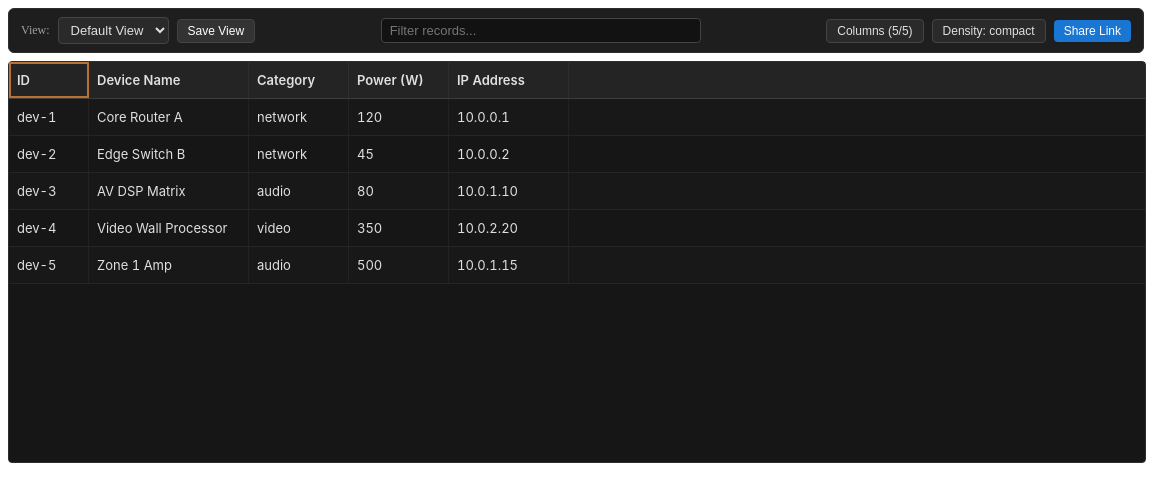
Test: GridViewManager & Views Engine (GR.W2 / B147) › GridViewManager Component Integration › filters data via search bar and column filter builders
Type "Router" into the field with test id "grid-view-search" at {"x": 541, "y": 30}, box x1=381 y1=18 x2=701 y2=43
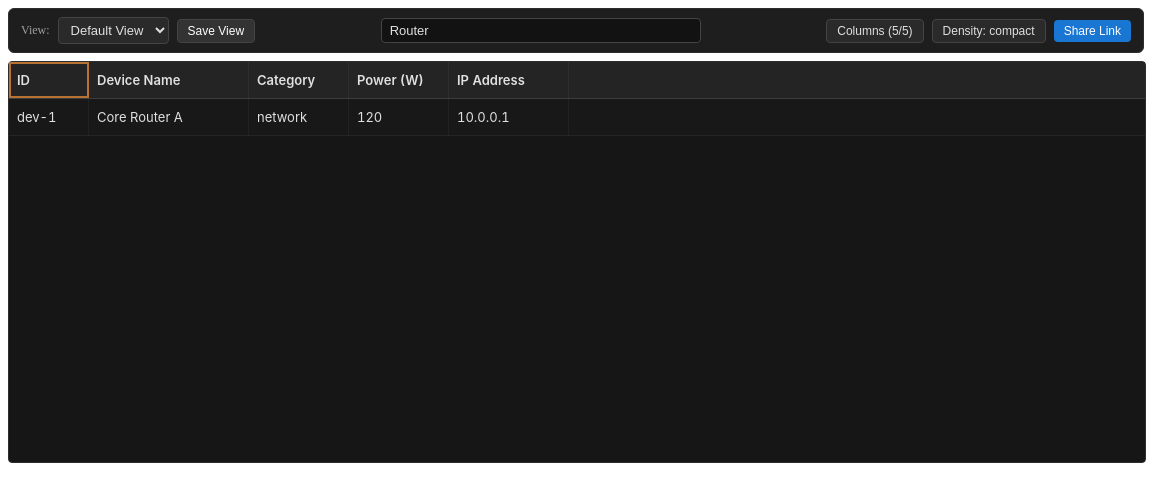
Expected: the text "Core Router A" is shown, x1=89 y1=99 x2=249 y2=135
Expected: the text "Video Wall Processor" is gone
